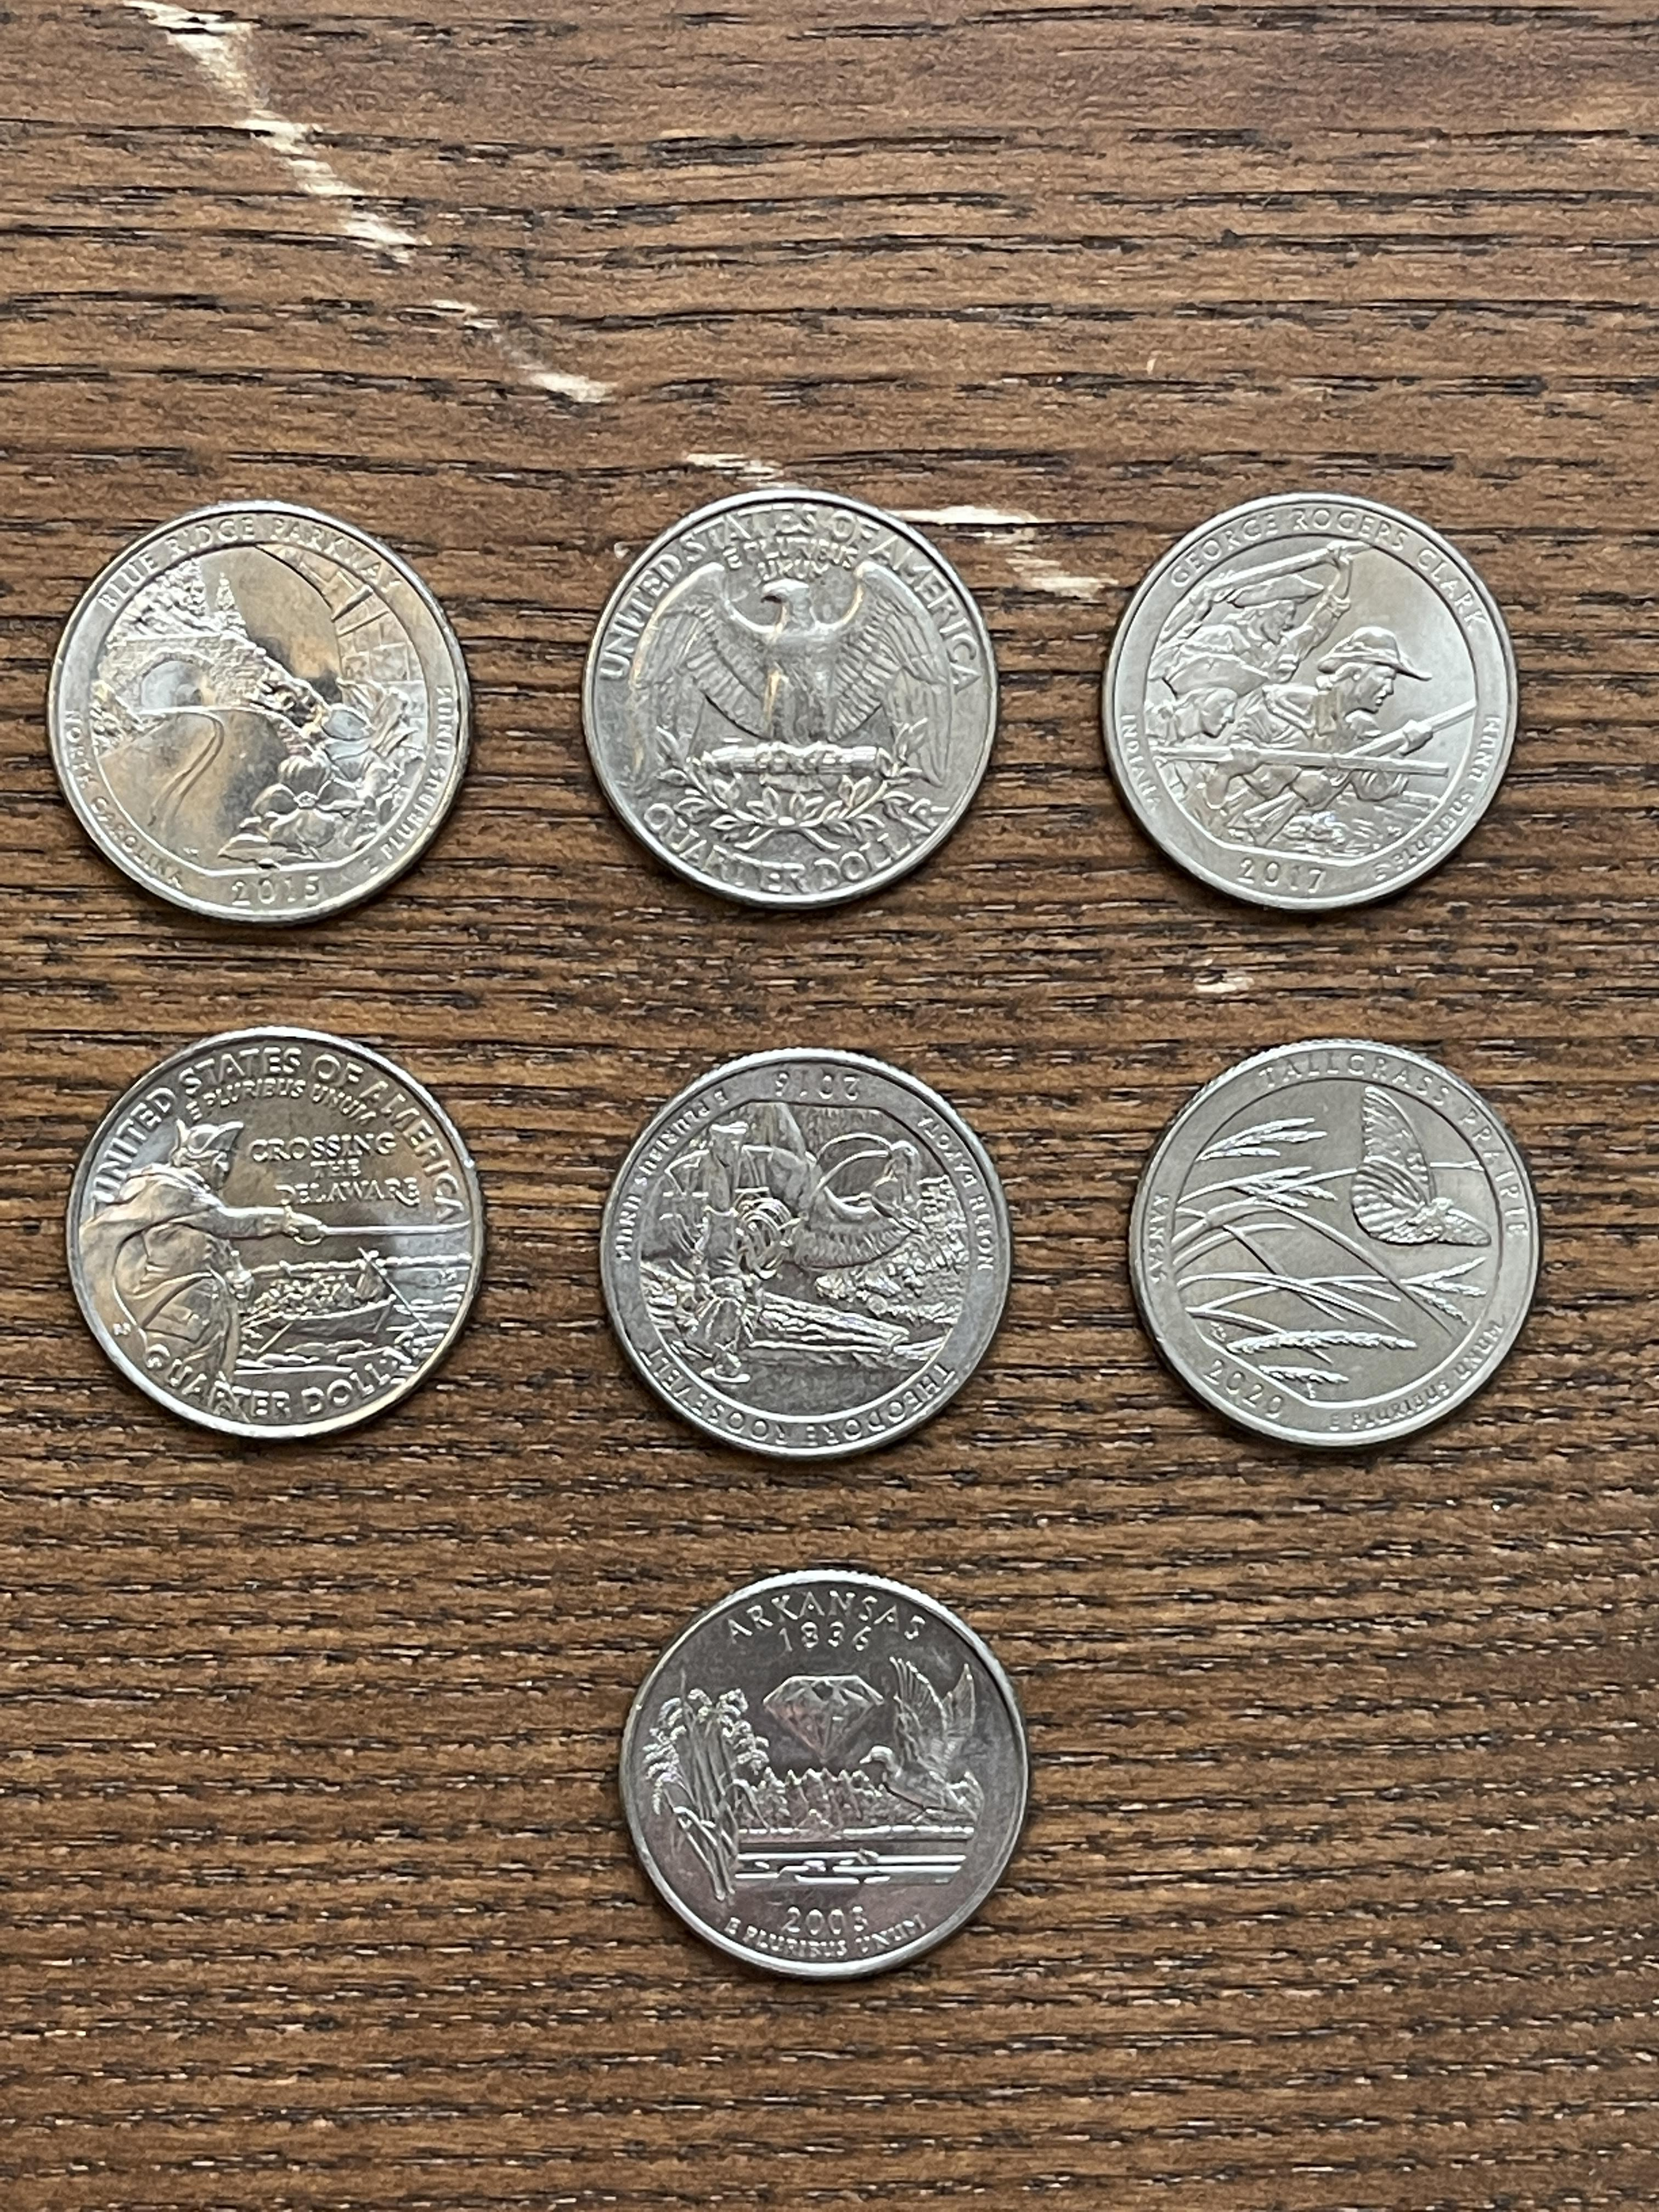Quarter: (42, 495, 477, 935), (44, 496, 483, 927), (1098, 489, 1527, 920), (61, 1022, 491, 1449), (577, 486, 1004, 914), (1124, 1033, 1542, 1456), (615, 1564, 1033, 1980), (598, 1045, 1014, 1461)
